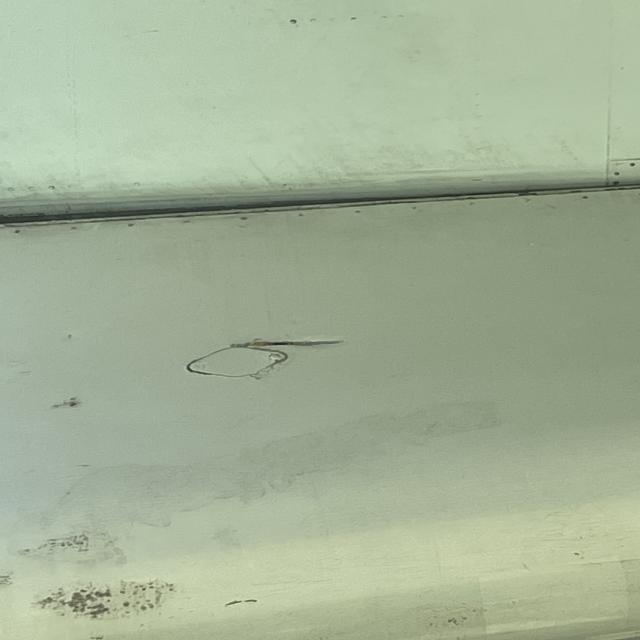crack: (235, 333, 352, 356)
